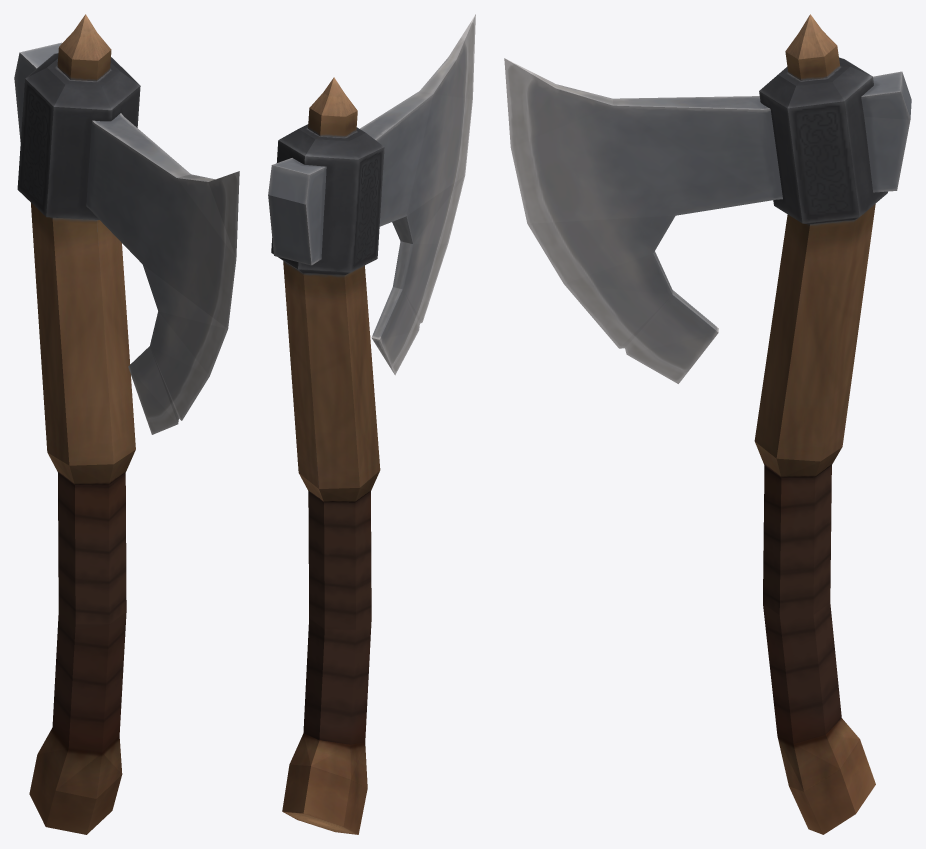
3 renders of one model, left to right at view 1: azimuth 30°, elevation 25°; view 2: azimuth 150°, elevation 25°; view 3: azimuth 270°, elevation 25°, orthographic. The views are drawn at different scales.
Visible parts, largest first — view 1: Plane; view 2: Plane; view 3: Plane.
Part boxes in pixels (x1,y1,x2,y2): Plane: [14, 14, 239, 834]; Plane: [268, 14, 475, 834]; Plane: [504, 14, 911, 834].
Size of the model in its own units: 0.3257 by 2.94 by 1.33.
1 material, 1 textured.
